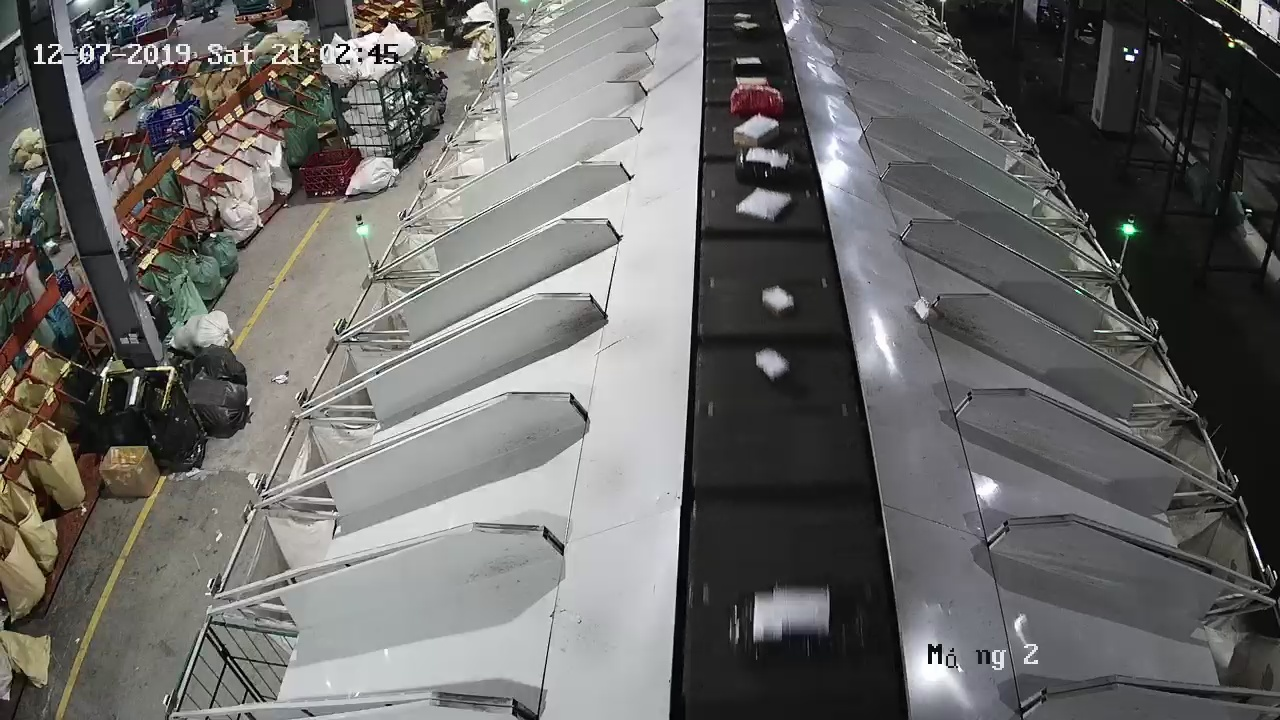parcel: (911, 295, 936, 323)
